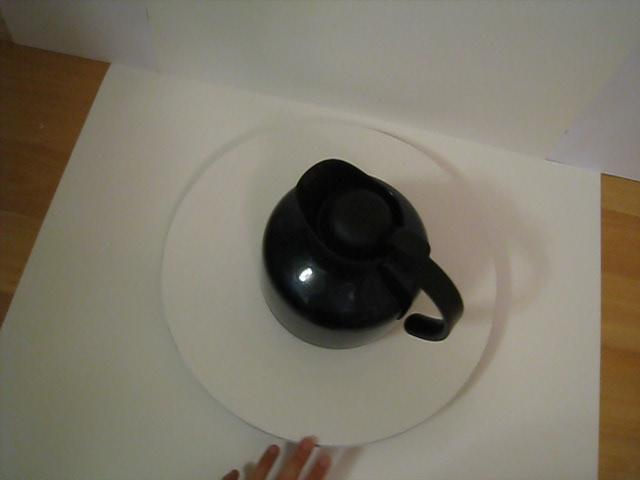pitcher: (255, 159, 478, 370)
